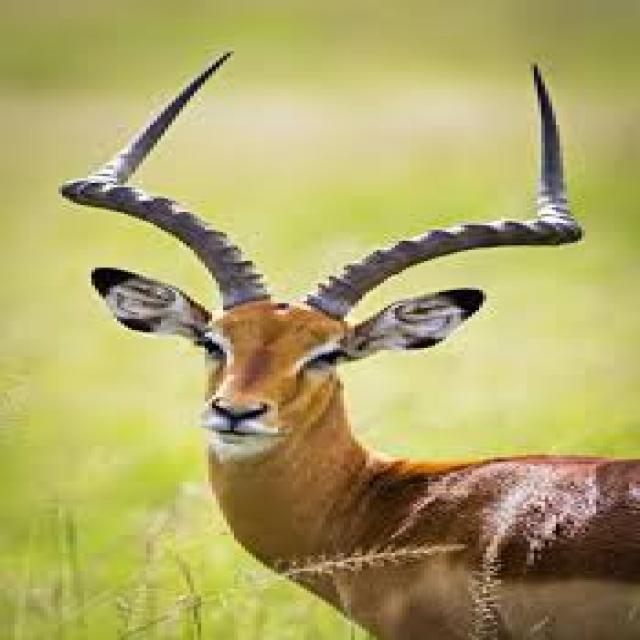Antelope: (64, 53, 640, 640)
